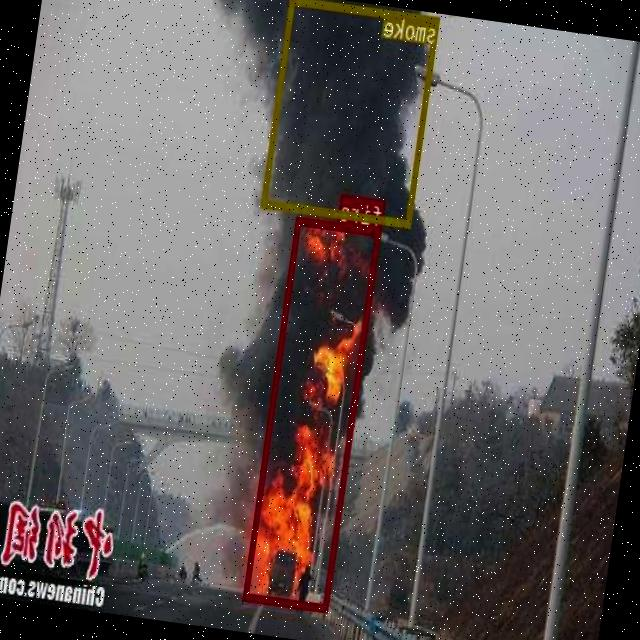fire: (244, 217, 382, 610)
smoke: (263, 0, 442, 226)
